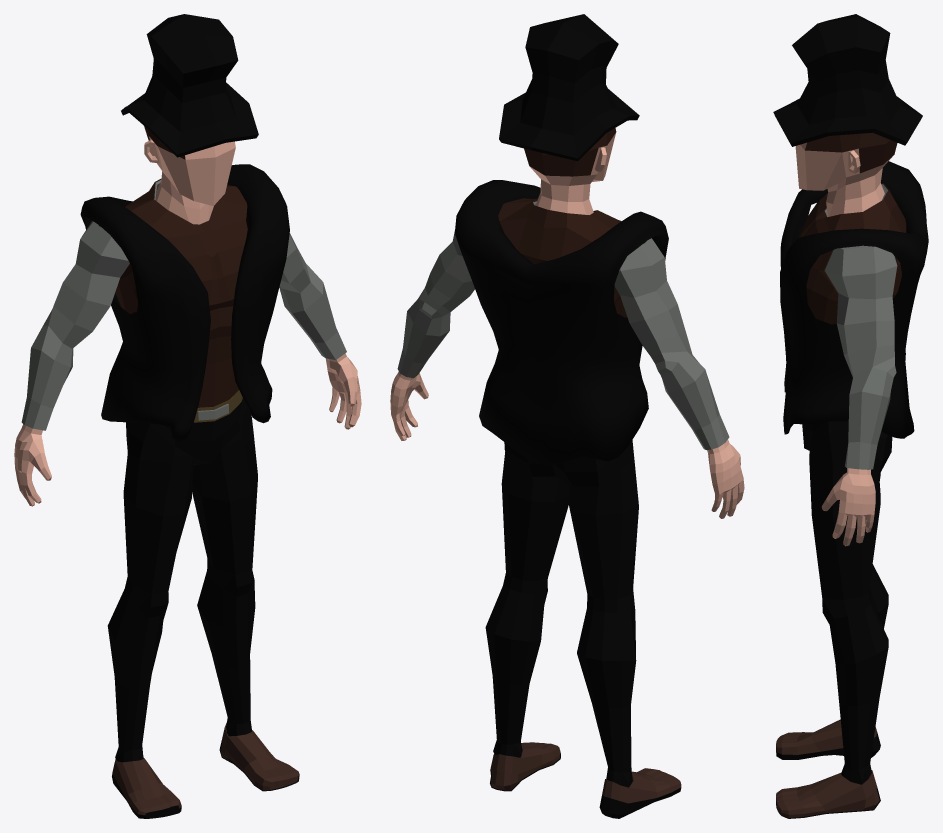
File: misioner.fbx
The picture shows the model from 3 angles, left to right: view 1: azimuth 30°, elevation 25°; view 2: azimuth 150°, elevation 25°; view 3: azimuth 270°, elevation 25°; orthographic projection. The views are drawn at different scales.
Parts seen in each view (by area): view 1: Low poly man.022; view 2: Low poly man.022; view 3: Low poly man.022.
Boxes of the visible parts, x1,y1,x2,y2 form: Low poly man.022: (14, 14, 361, 818); Low poly man.022: (390, 14, 744, 818); Low poly man.022: (773, 14, 928, 818).
Bounding box in the file's own units: 89.55 × 192 × 35.47.
